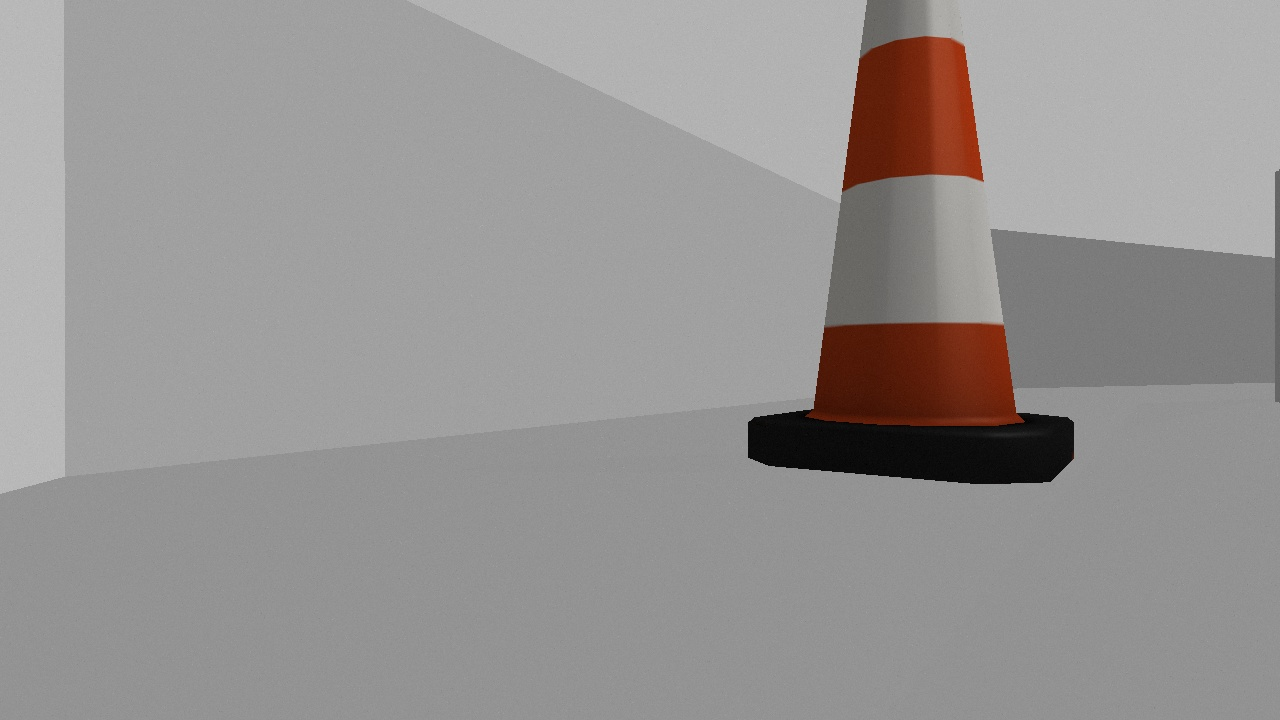barricade: (745, 1, 1074, 486)
